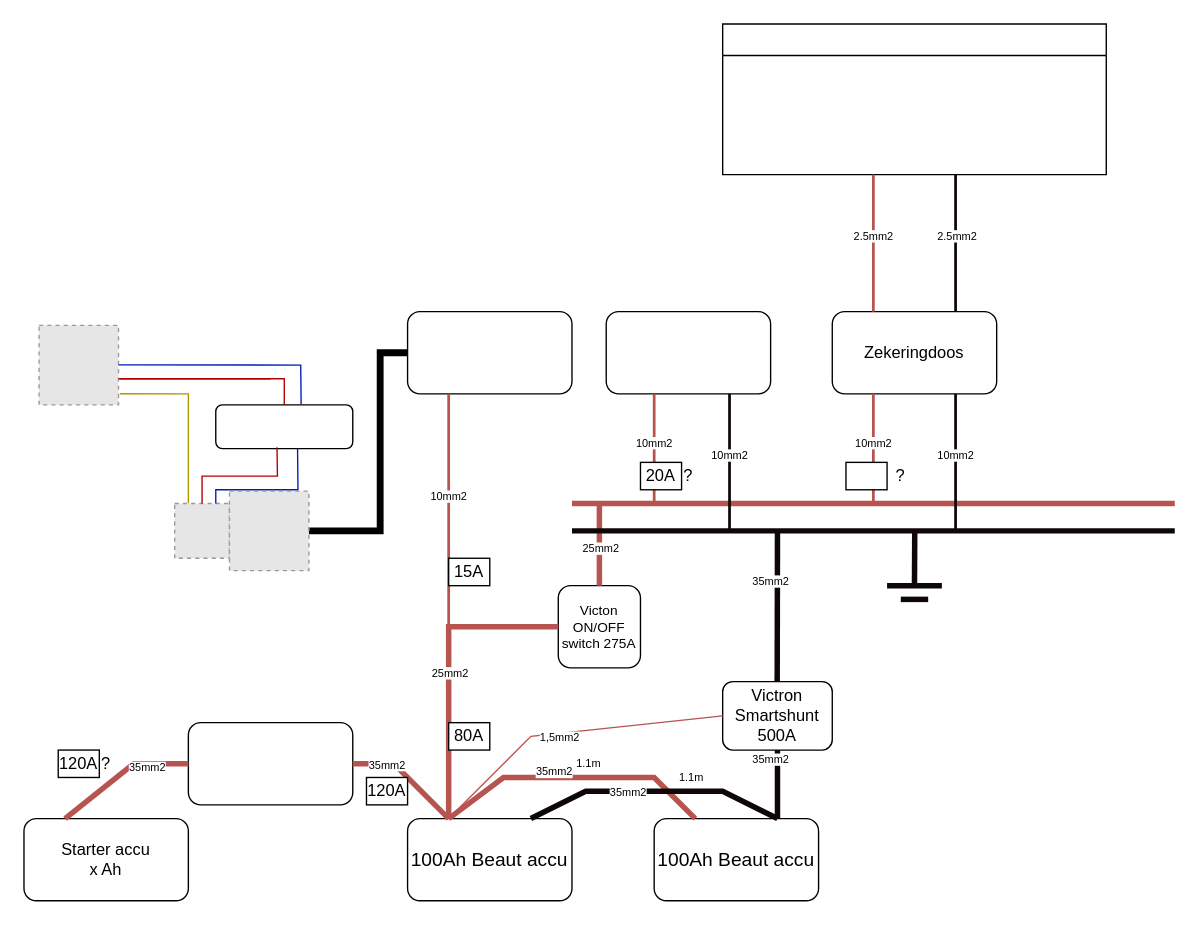
Image size: 1203x925. Some labels were removed from this diagram. Grey dashed boxes stand in for pictures. The centre of each missing label's shape, as x and y in pixels:
"12V aansluitingen" goes at (913,99).
"40A" goes at (866,475).
"Aardlekautomaat" goes at (283,426).
"Victron Blue smart charger 12/15" goes at (489,352).
"Victron Cyrix-ct 12/24V-120A" goes at (270,763).
"Victron Phoenix 12/375 Omvormer" goes at (688,352).
